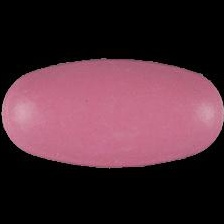62756-798: (0, 0, 224, 224)
